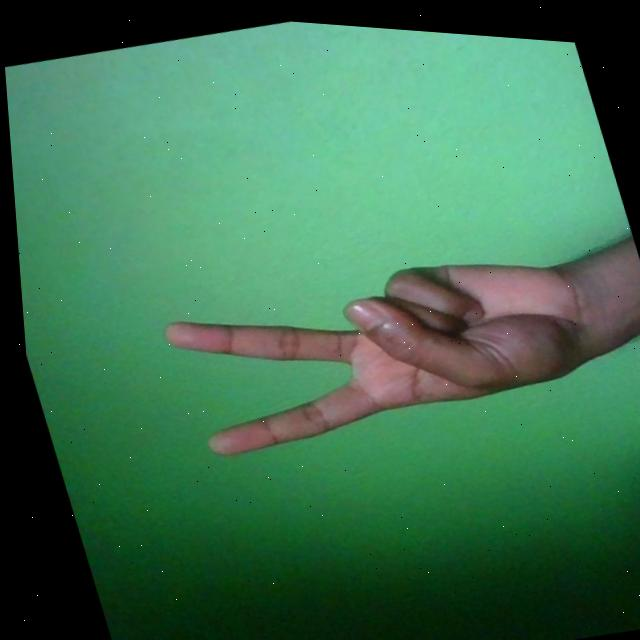Peace: (145, 206, 618, 481)
